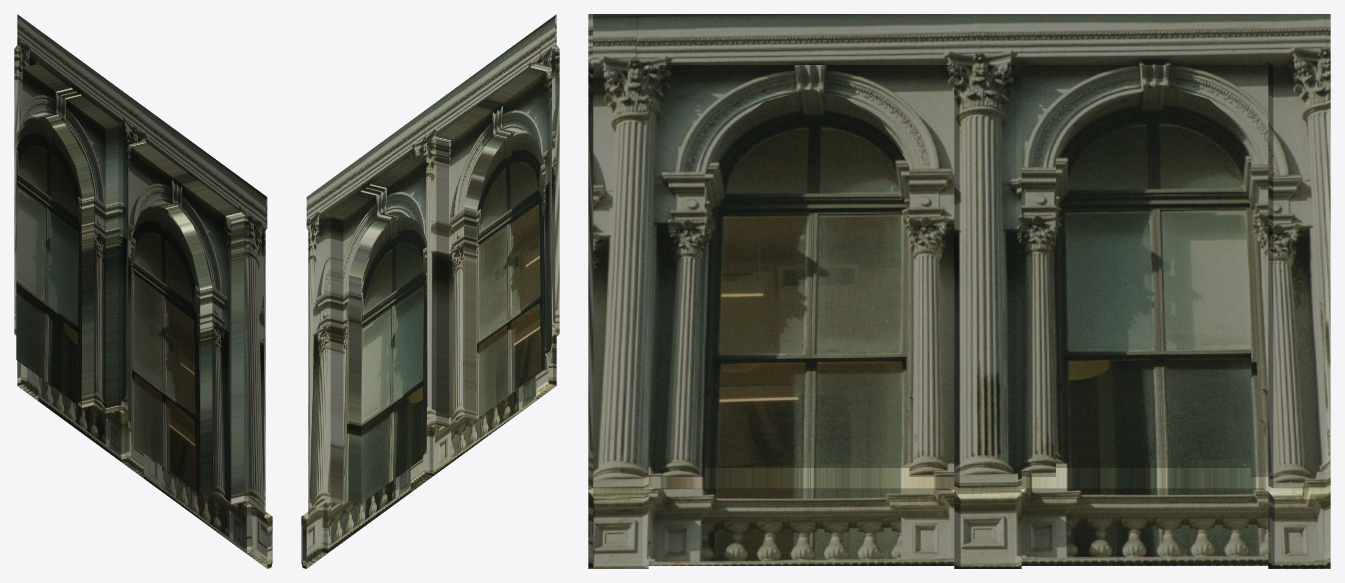
Rendered from building2.glb.
3 views of the same model, side by side, from view 1: azimuth 30°, elevation 25°; view 2: azimuth 150°, elevation 25°; view 3: azimuth 270°, elevation 25° (orthographic). The views are drawn at different scales.
Visible parts, largest first — view 1: Cube; view 2: Cube; view 3: Cube.
Part boxes in pixels (bbox=[...]): Cube: bbox=[14, 14, 272, 568]; Cube: bbox=[301, 14, 559, 568]; Cube: bbox=[588, 14, 1330, 568].
Bounding box in the file's own units: 0.1632 × 1.64 × 2.
1 material, 1 textured.
